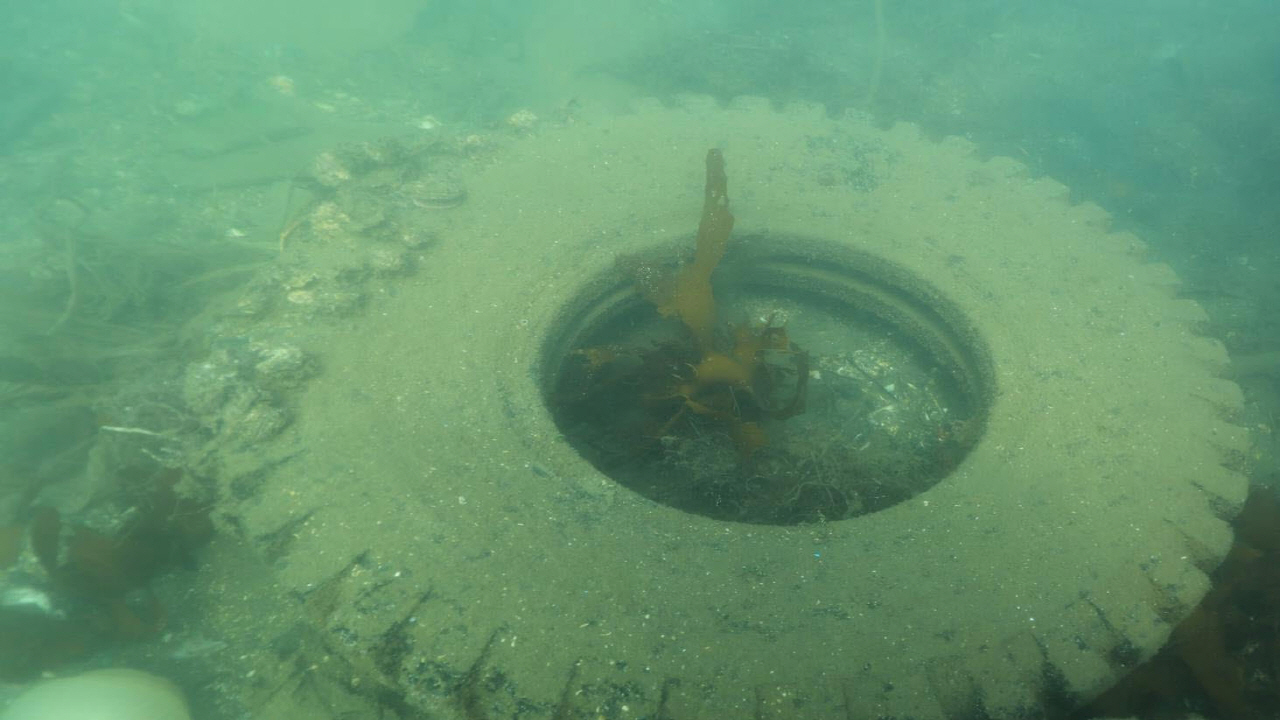tire: (232, 84, 1256, 720)
